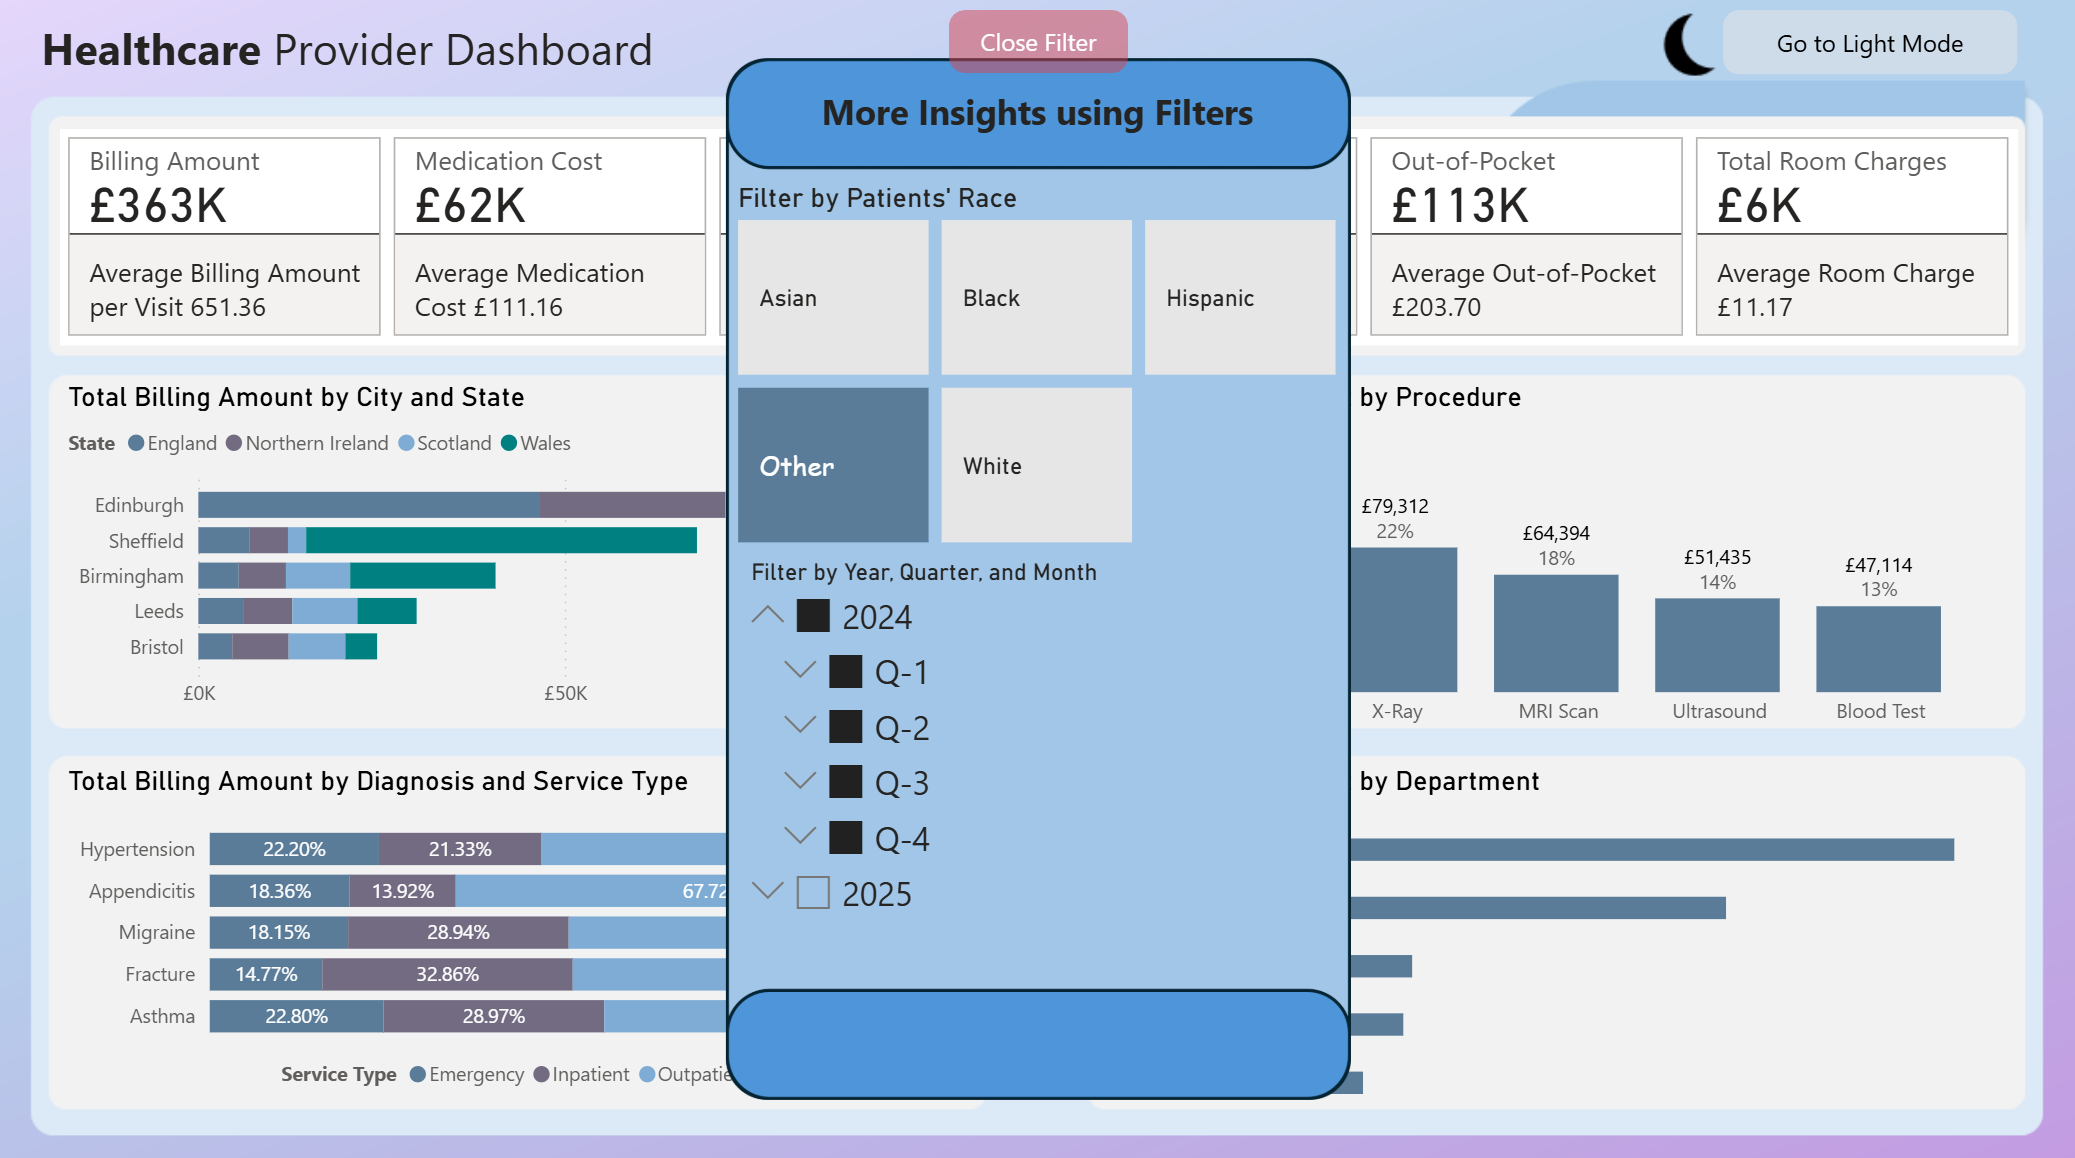

The page's visual inventory and layout, read from the dashboard file:
{"tool":"powerbi","page":{"name":"Dark Mode","canvas":[1280,720],"ordinal":2},"visuals":[{"type":"cardVisual","fields":{"Data":["DAX Calculation.Total Billing Amount","DAX Calculation.Total Medication Cost","DAX Calculation.Total Treatment Cost","DAX Calculation.Total Insurance Covered","DAX Calculation.Out-of-Pocket","DAX Calculation.Total Room Charges"]},"box":[39.3,83.5,1202.9,132.7],"z":0},{"type":"actionButton","title":"Open Filter","box":[585.4,11.4,110,38.8],"z":1000,"group":"g1"},{"type":"barChart","fields":{"Category":["cities.City"],"Y":["DAX Calculation.Total Billing Amount"],"Series":["cities.State"]},"box":[39.3,237.7,565.2,210.7],"z":1000},{"type":"columnChart","fields":{"Category":["procedures.Procedure"],"Y":["DAX Calculation.Total Billing Amount"]},"box":[677.6,237.7,564.6,221.8],"z":2000},{"type":"hundredPercentStackedBarChart","fields":{"Y":["DAX Calculation.Total Billing Amount"],"Category":["diagnoses.Diagnosis"],"Series":["visits.Service Type"]},"box":[39.3,473.7,565.2,208.9],"z":3000},{"type":"clusteredBarChart","title":"Total Billing Amount by Department","fields":{"Category":["departments.Department"],"Y":["DAX Calculation.Blank Measure","DAX Calculation.Total Billing Amount"]},"box":[677.6,473.7,564.6,208.9],"z":4000},{"type":"textbox","box":[20.7,10.4,599.8,53.1],"z":5000},{"type":"actionButton","title":"Go to Light Mode","box":[1061,10.4,181.2,39.9],"z":6000},{"type":"group","id":"g1","title":"Slicer Buttons","box":[585.4,11.4,109.8,39.2],"z":8000}]}

Visuals, with their boxes in screenshot pixels (x1, y1, x2, y2), scaled from the page's 1280x720 canvas onto the 2075x1158 screenshot:
cardVisual - DAX Calculation.Total Billing Amount x DAX Calculation.Total Medication Cost: (left=64, top=134, right=2014, bottom=348)
"Open Filter" actionButton: (left=949, top=18, right=1127, bottom=81)
barChart - cities.City x DAX Calculation.Total Billing Amount: (left=64, top=382, right=980, bottom=721)
columnChart - procedures.Procedure x DAX Calculation.Total Billing Amount: (left=1098, top=382, right=2014, bottom=739)
hundredPercentStackedBarChart - DAX Calculation.Total Billing Amount x diagnoses.Diagnosis: (left=64, top=762, right=980, bottom=1098)
"Total Billing Amount by Department" clusteredBarChart: (left=1098, top=762, right=2014, bottom=1098)
textbox: (left=34, top=17, right=1006, bottom=102)
"Go to Light Mode" actionButton: (left=1720, top=17, right=2014, bottom=81)
"Slicer Buttons" group: (left=949, top=18, right=1127, bottom=81)
